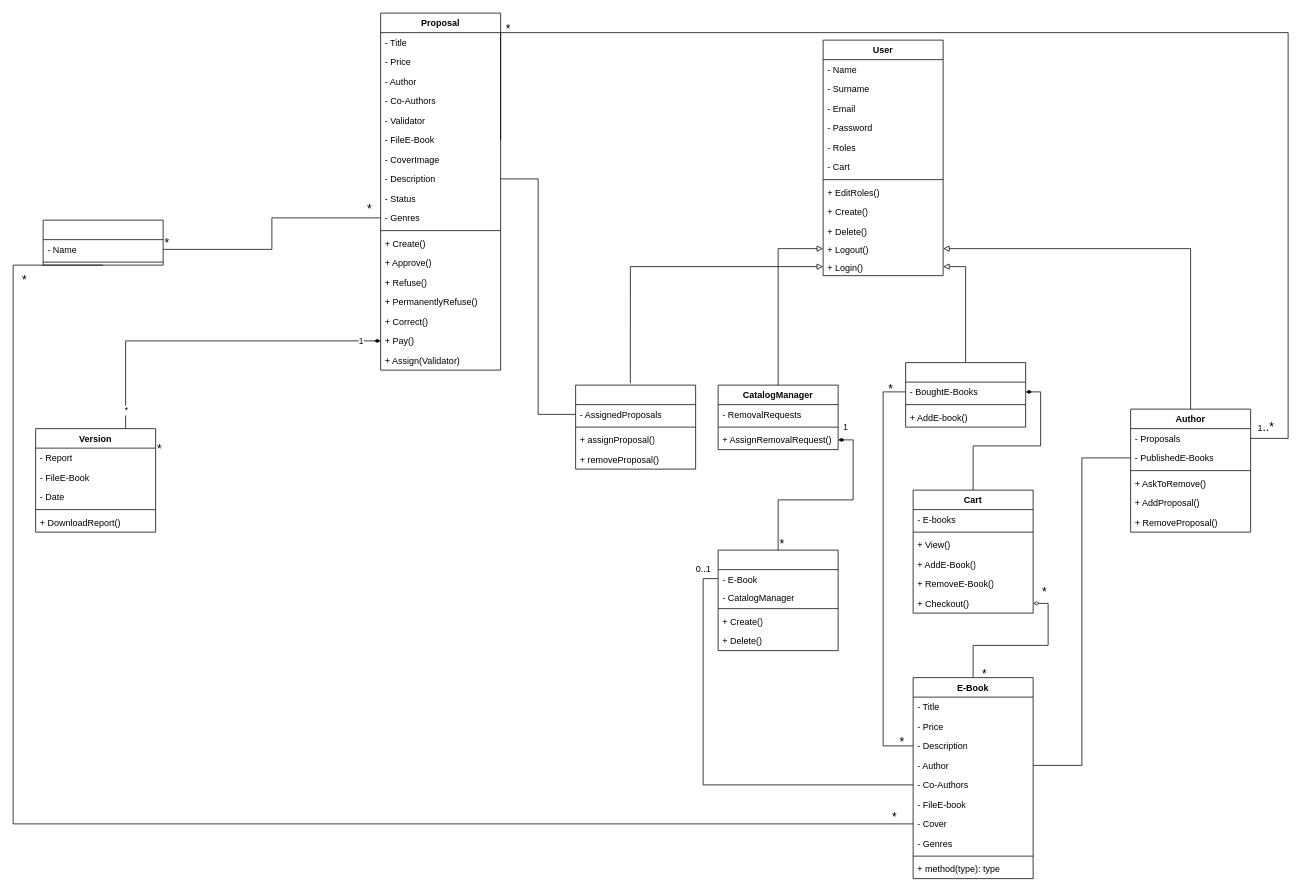
Image size: 1302x894. Some labels were removed from this diagram. The box of each missing label's shape, as (x1, y1, x2, y2) in pixels:
Genres: (42, 219, 163, 265)
Reader: (905, 362, 1026, 427)
RemovalRequest: (717, 549, 838, 651)
Validator: (575, 384, 696, 469)
